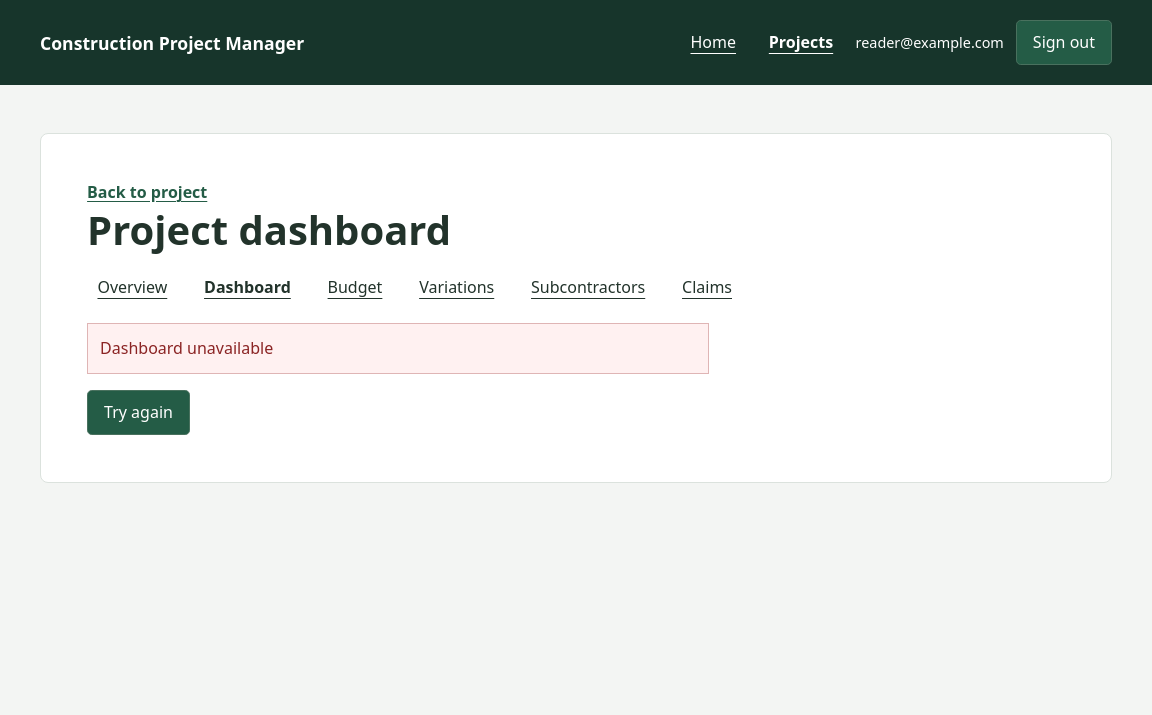
Test: read-only project dashboard › shows dashboard API errors and supports retry
Expected: the message reads "Dashboard unavailable", [100, 337, 273, 359]
Click the button "Try again".
click(138, 413)  # box [87, 390, 190, 435]
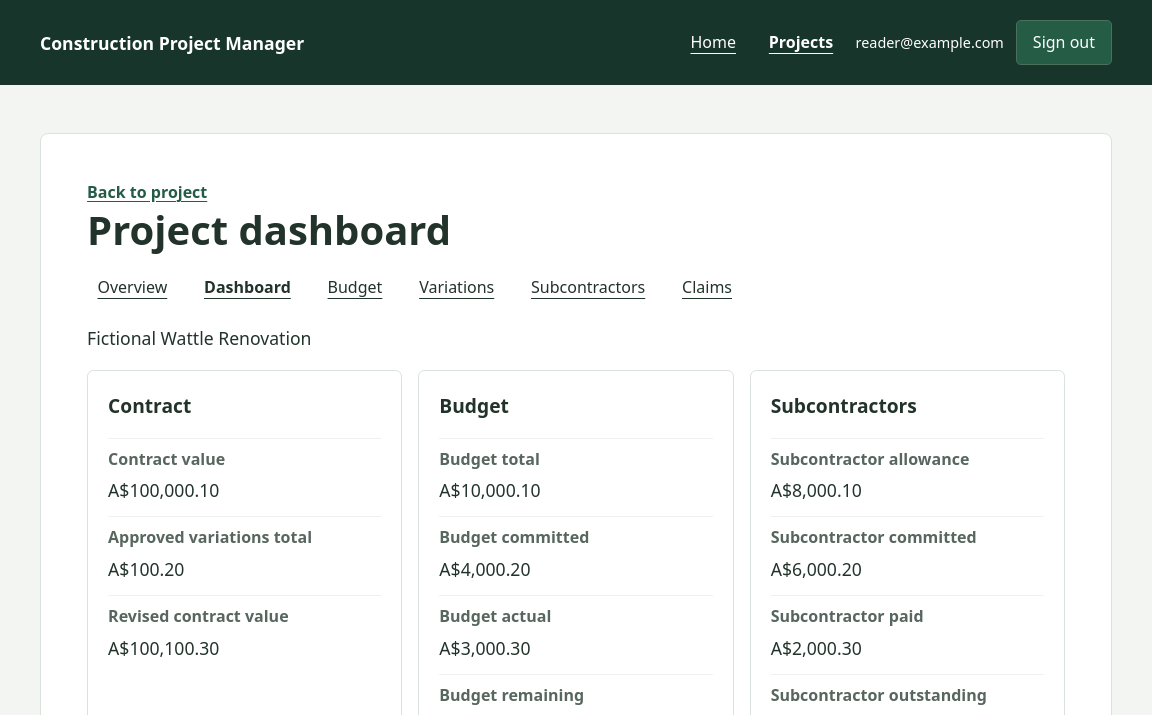
Now the message "Dashboard unavailable" is gone
